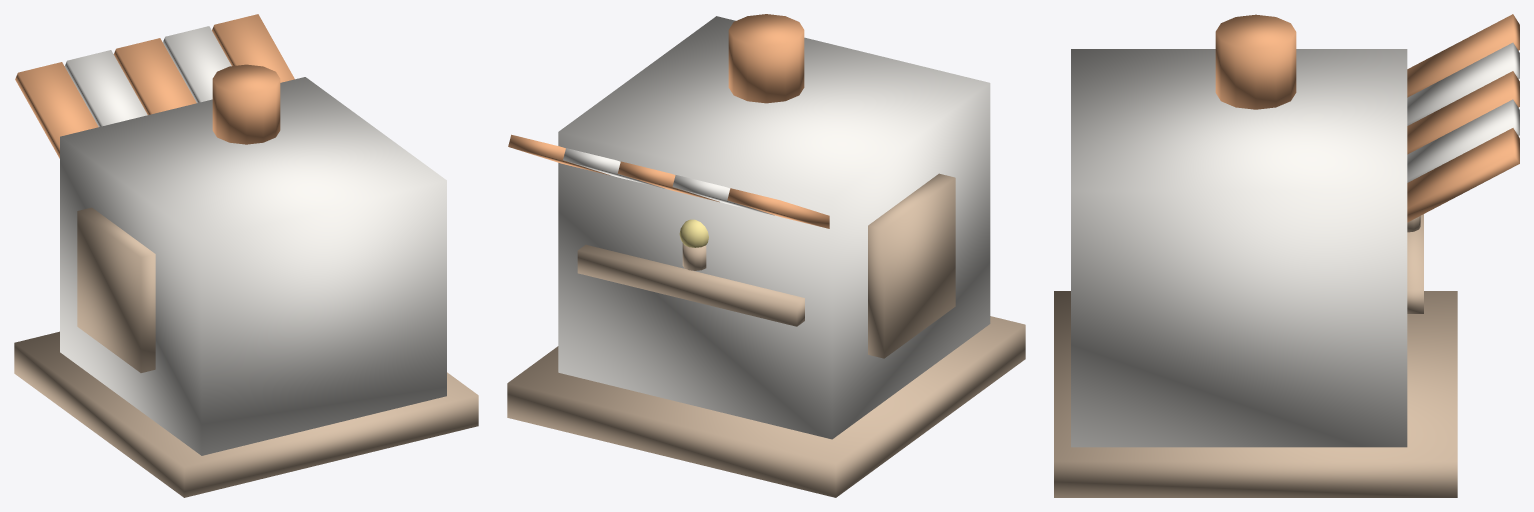
Rendered from thai_tea_shop_lv2.glb.
The picture shows the model from 3 angles, left to right: view 1: azimuth 30°, elevation 25°; view 2: azimuth 150°, elevation 25°; view 3: azimuth 270°, elevation 25°; orthographic projection. The views are drawn at different scales.
Parts seen in each view (by area): view 1: shop_base, shop_deck, bay_win, cup_sign, awn_strip_0, awn_strip_1, awn_strip_2, awn_strip_3, awn_strip_4; view 2: shop_base, shop_deck, bay_win, counter, cup_sign, awn_strip_0, awn_strip_2, awn_strip_1, awn_strip_3, awn_strip_4, pot_shrub, flower_pot; view 3: shop_base, shop_deck, cup_sign, awn_strip_4, awn_strip_1, awn_strip_3, awn_strip_2, awn_strip_0, counter.
Part boxes in pixels (bbox=[...]): shop_base: bbox=[60, 77, 446, 455]; shop_deck: bbox=[14, 331, 478, 497]; bay_win: bbox=[77, 207, 155, 372]; cup_sign: bbox=[212, 64, 280, 144]; awn_strip_0: bbox=[15, 62, 98, 158]; awn_strip_1: bbox=[64, 50, 147, 126]; awn_strip_2: bbox=[113, 38, 196, 114]; awn_strip_3: bbox=[163, 26, 231, 102]; awn_strip_4: bbox=[212, 14, 294, 82]; shop_base: bbox=[558, 16, 990, 439]; shop_deck: bbox=[507, 316, 1025, 497]; bay_win: bbox=[868, 173, 955, 358]; counter: bbox=[577, 244, 804, 326]; cup_sign: bbox=[728, 14, 804, 103]; awn_strip_0: bbox=[727, 188, 829, 228]; awn_strip_2: bbox=[617, 161, 719, 202]; awn_strip_1: bbox=[672, 175, 774, 215]; awn_strip_3: bbox=[563, 148, 664, 188]; awn_strip_4: bbox=[508, 134, 610, 175]; pot_shrub: bbox=[679, 219, 708, 247]; flower_pot: bbox=[682, 243, 706, 270]; shop_base: bbox=[1071, 49, 1407, 447]; shop_deck: bbox=[1054, 291, 1457, 497]; cup_sign: bbox=[1215, 14, 1296, 109]; awn_strip_4: bbox=[1407, 128, 1519, 222]; awn_strip_1: bbox=[1407, 42, 1519, 125]; awn_strip_3: bbox=[1407, 99, 1519, 182]; awn_strip_2: bbox=[1407, 71, 1519, 154]; awn_strip_0: bbox=[1407, 14, 1519, 97]; counter: bbox=[1407, 214, 1423, 313].
Size of the model in its own units: 1.2 by 1.25 by 1.38.
